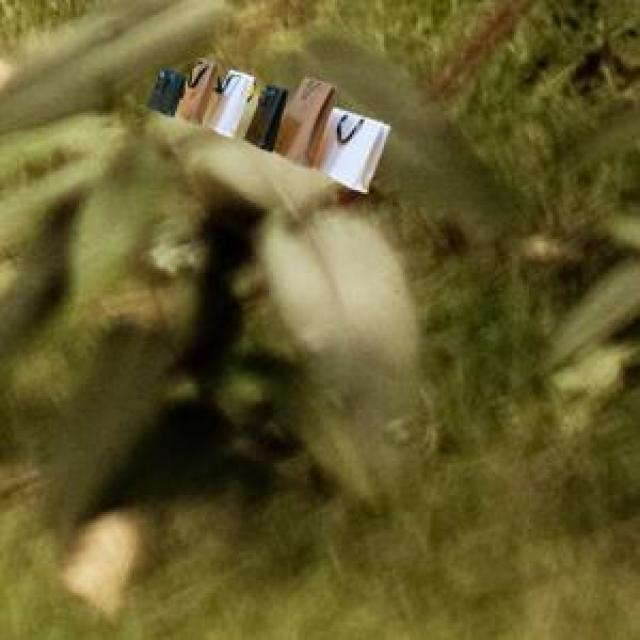paper: (144, 56, 386, 188)
